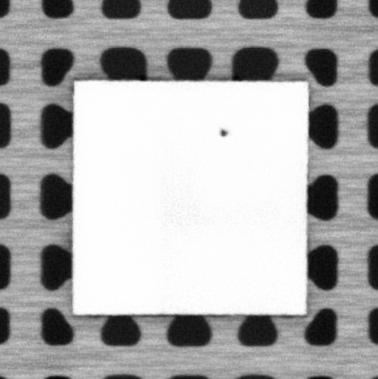DIE_INK: (219, 126, 228, 137)
